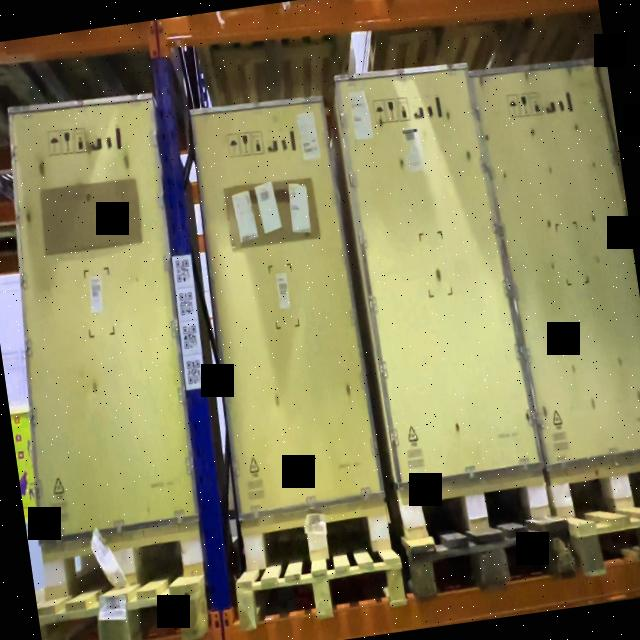box: (8, 99, 198, 530), (192, 94, 378, 512), (342, 68, 524, 484)
